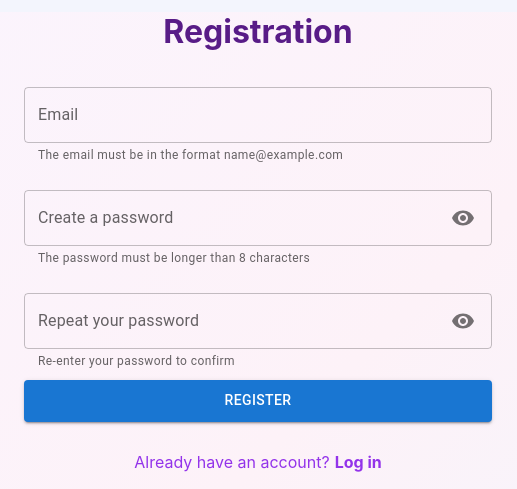
Test case: RegistrationForm › shows validation errors when submitting empty form
Step 1. Click the button "Register" → (258, 401), box [24,380,492,422]
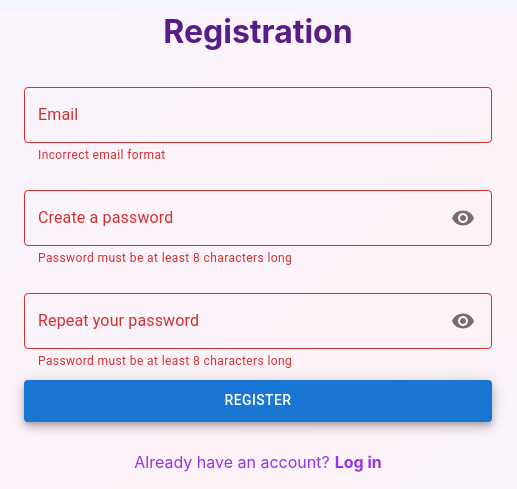
Check: the text "Password must be at least 8 characters long" is shown 2 times, box [38,251,292,265]; [38,354,292,368]
Check: the text "Incorrect email format" is shown, box [38,148,166,162]
